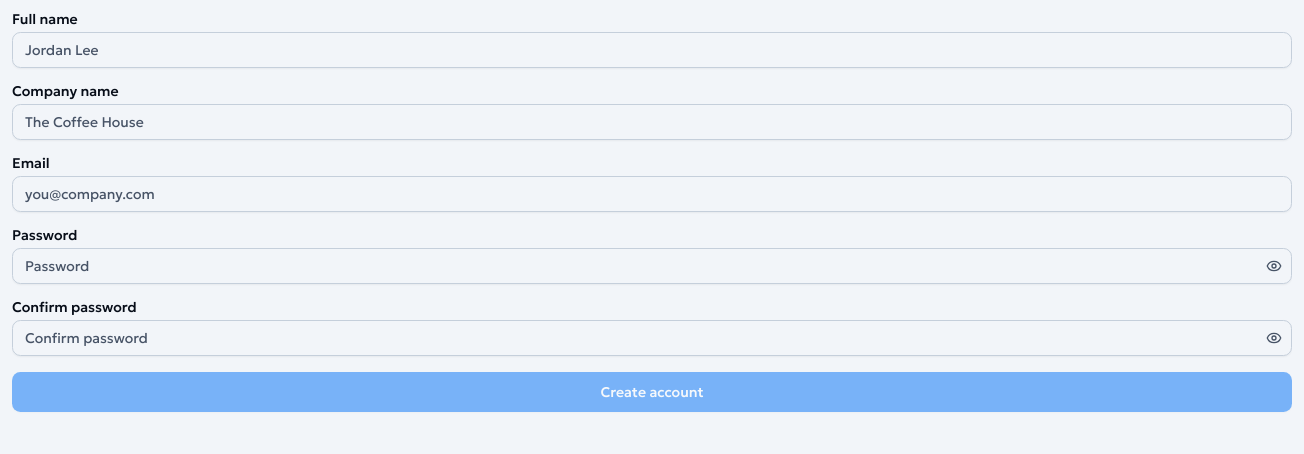
Scenario: CreateAccountForm › surfaces the schema's message once a field has been blurred, not on first keystroke
Type "not-an-email" into the field labelled "Email" at coordinates (652, 194), box x1=12 y1=176 x2=1292 y2=212
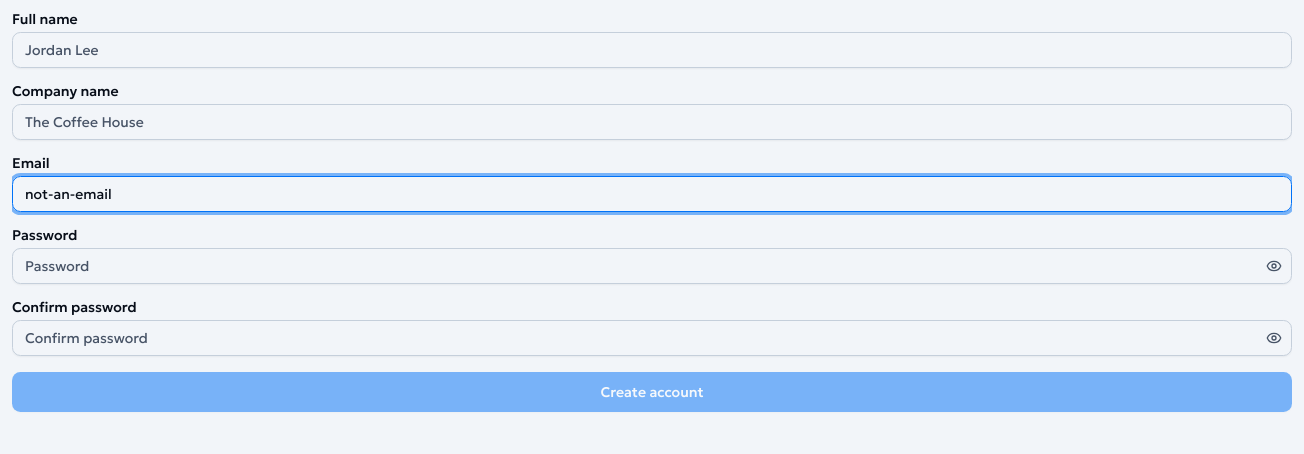
Expected: the text "Enter a valid email address." is not shown
Press Tab
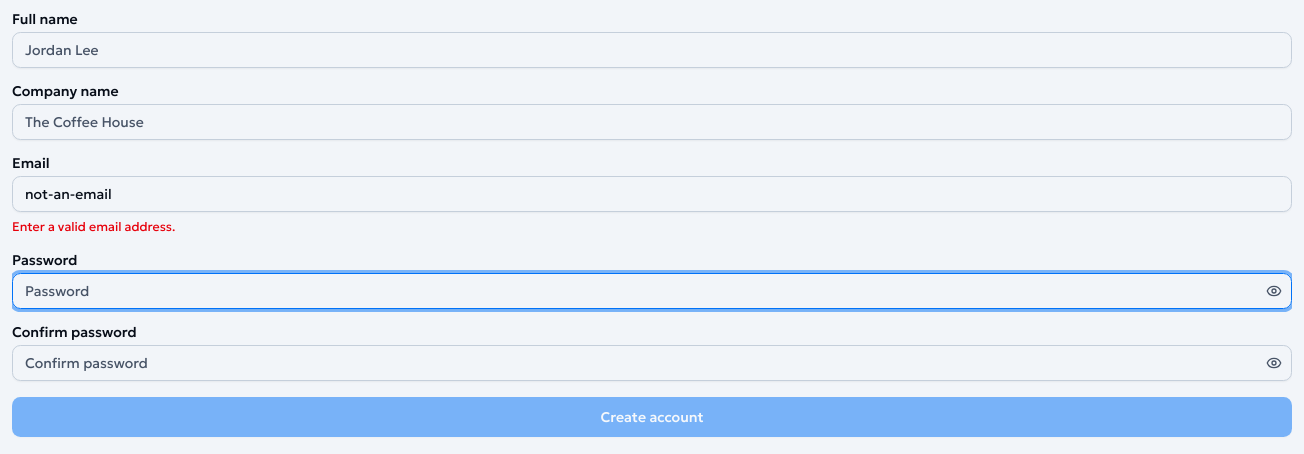
Expected: the text "Enter a valid email address." is shown, x1=12 y1=219 x2=175 y2=234
